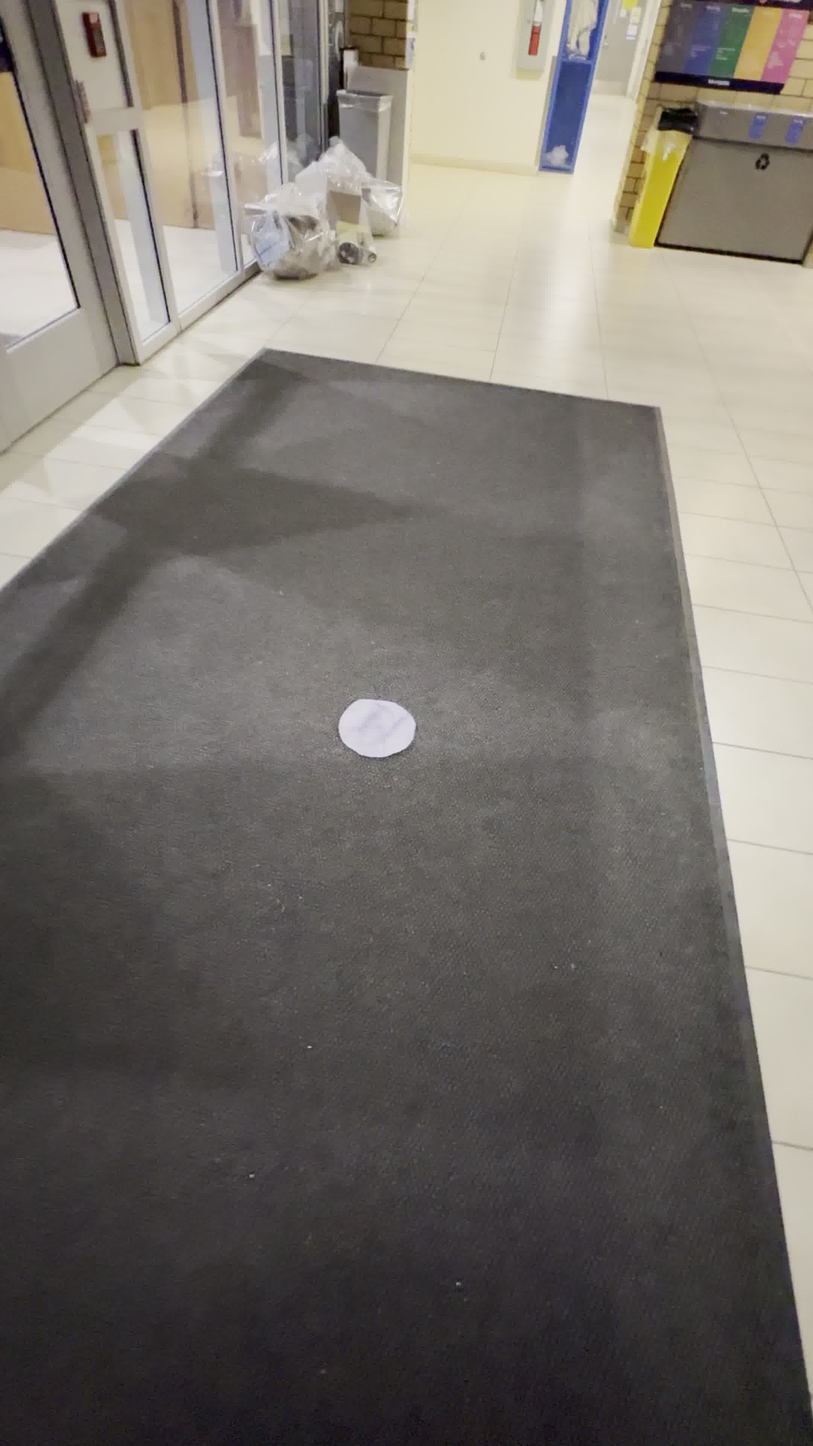Target: (338, 698, 416, 758)
